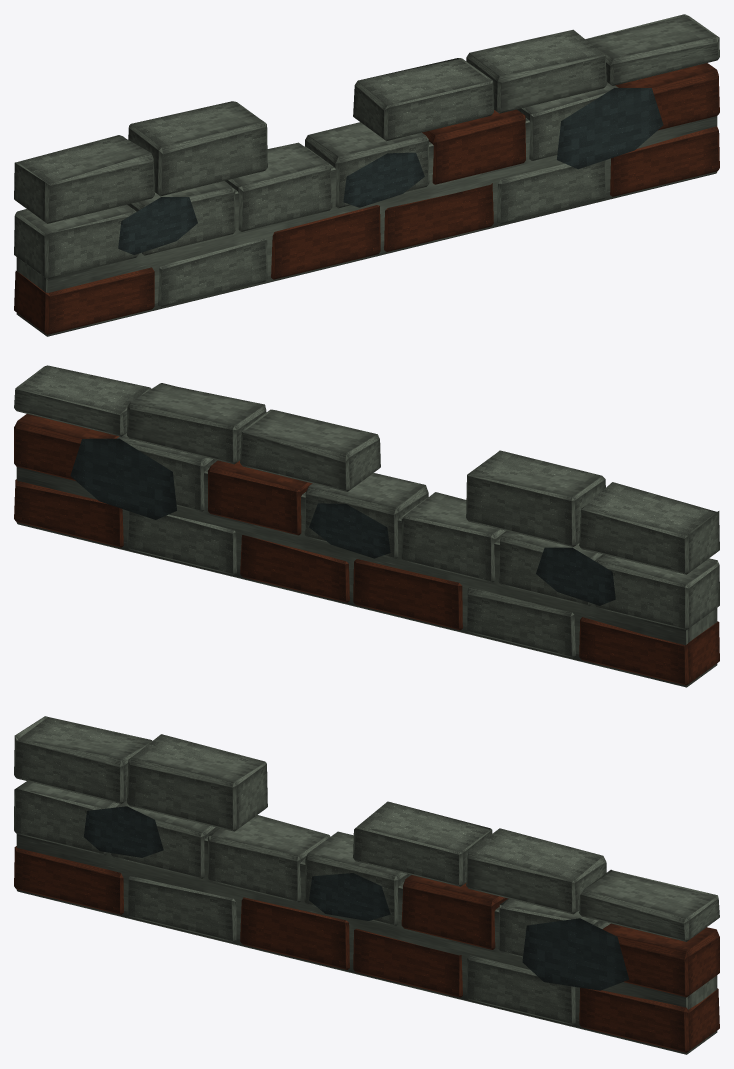
Rendered from THStage_EntryPartition.fbx.
3 views of the same model, one above another, from view 1: azimuth 30°, elevation 25°; view 2: azimuth 150°, elevation 25°; view 3: azimuth 330°, elevation 25° (orthographic).
Parts seen in each view (by area): view 1: THStage_EntryPartition.015; view 2: THStage_EntryPartition.015; view 3: THStage_EntryPartition.015.
Part boxes in pixels (bbox=[...]): THStage_EntryPartition.015: bbox=[14, 14, 719, 336]; THStage_EntryPartition.015: bbox=[14, 365, 719, 687]; THStage_EntryPartition.015: bbox=[14, 716, 719, 1054].
Size of the model in its own units: 2.93 by 0.6767 by 0.258.
Materials: 1 (1 with a texture image).
